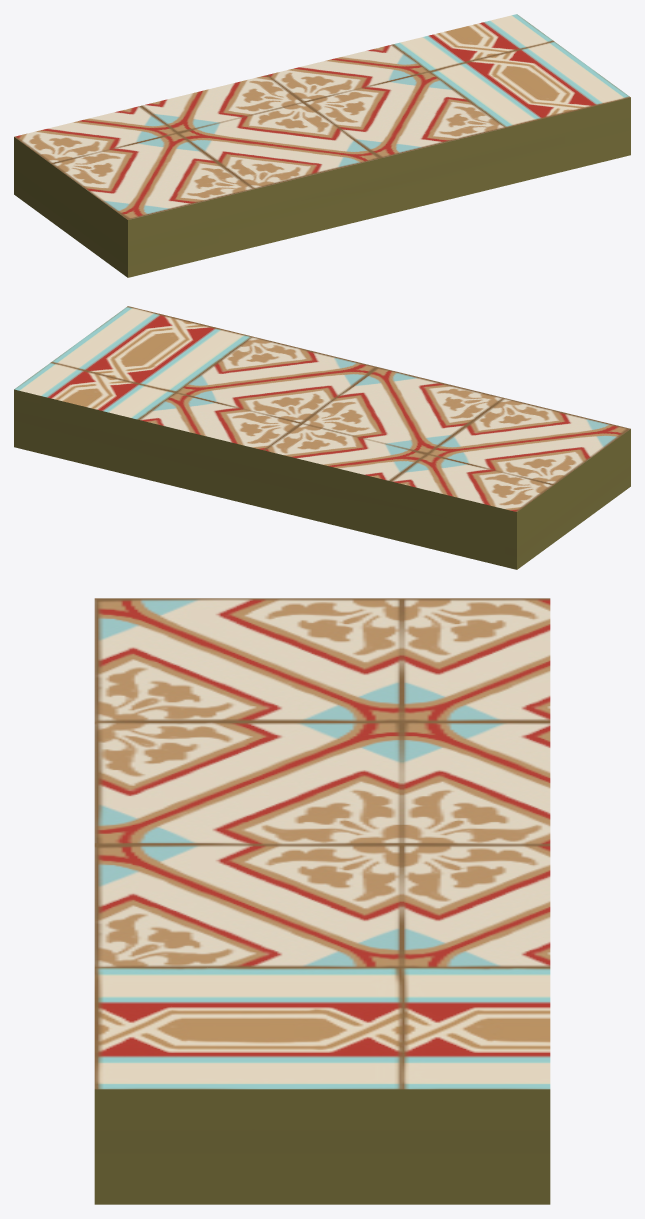
The model's file is Parkour1.fbx.
The picture shows the model from 3 angles, top to bottom: view 1: azimuth 30°, elevation 25°; view 2: azimuth 150°, elevation 25°; view 3: azimuth 270°, elevation 25°; orthographic projection. The views are drawn at different scales.
Parts seen in each view (by area): view 1: SM_Cube; view 2: SM_Cube; view 3: SM_Cube.
Boxes of the visible parts, x1,y1,x2,y2 form: SM_Cube: [14, 14, 630, 277]; SM_Cube: [14, 306, 630, 569]; SM_Cube: [94, 598, 550, 1204].
Size of the model in its own units: 306 by 33.56 by 120.
